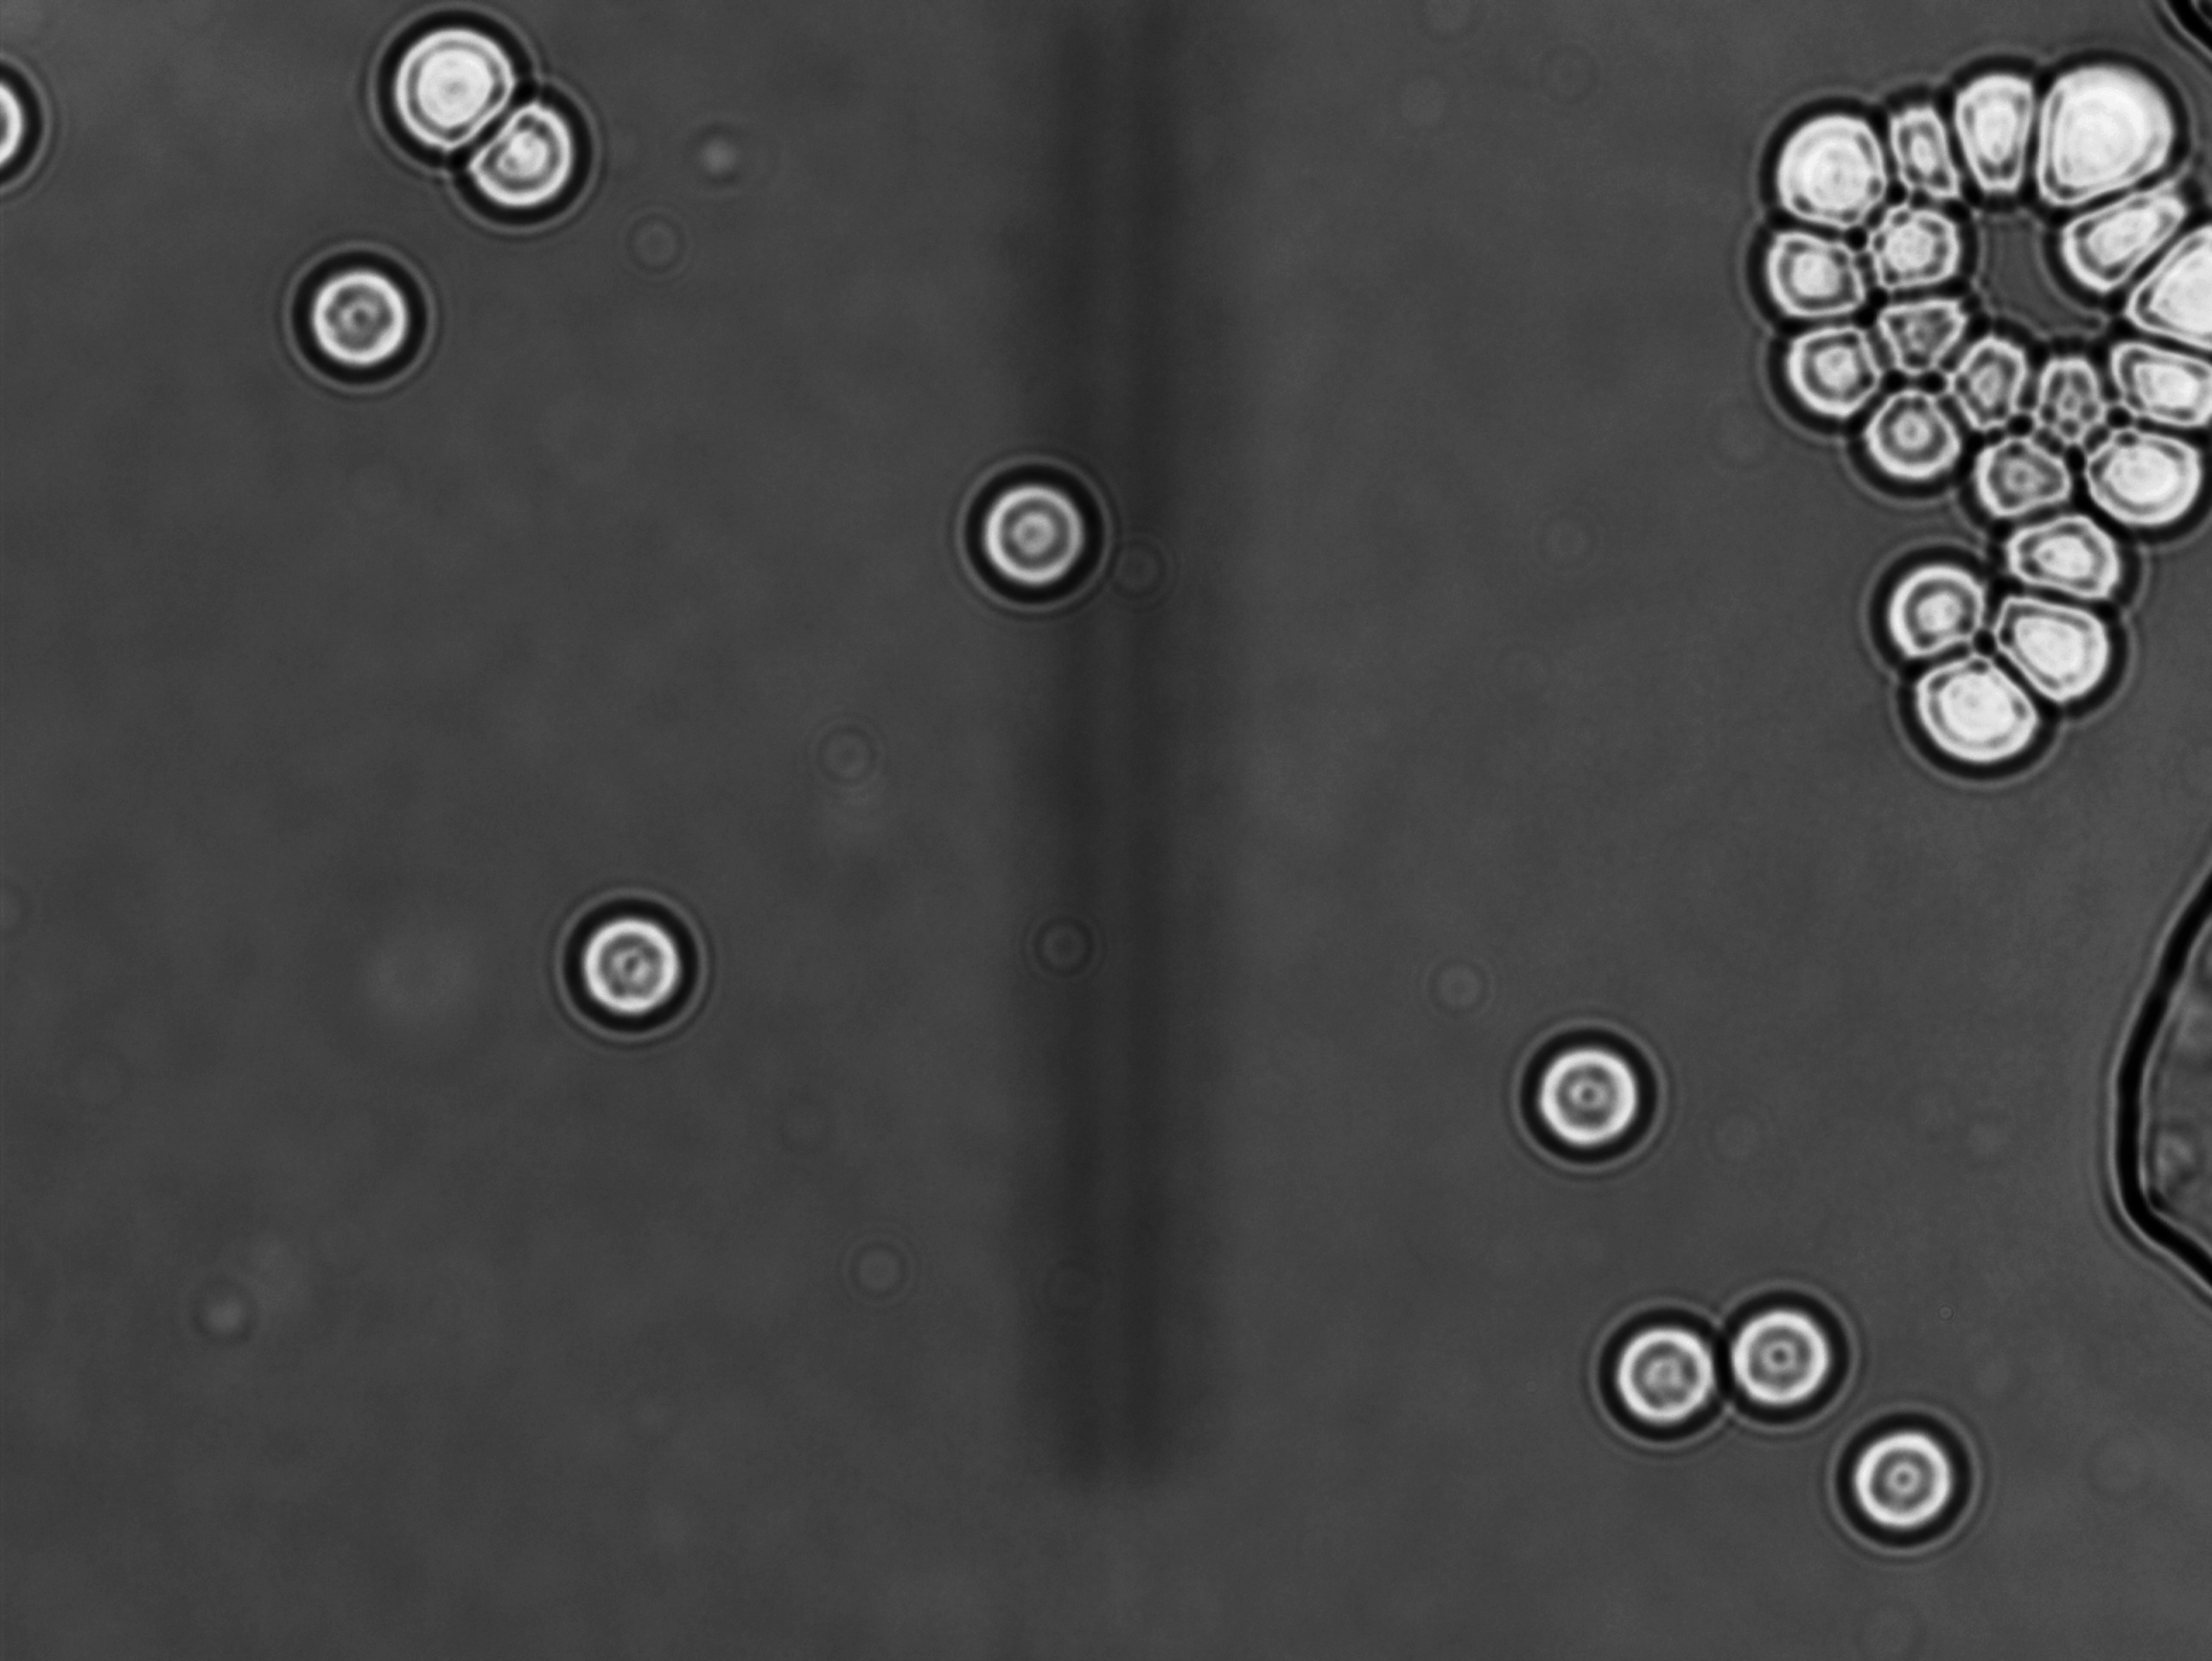depth:20: (935, 438, 1106, 621), (265, 234, 443, 408), (1499, 1005, 1671, 1176), (534, 871, 701, 1043), (1584, 1293, 1751, 1457), (1833, 1405, 2001, 1562), (1713, 1267, 1858, 1429)
